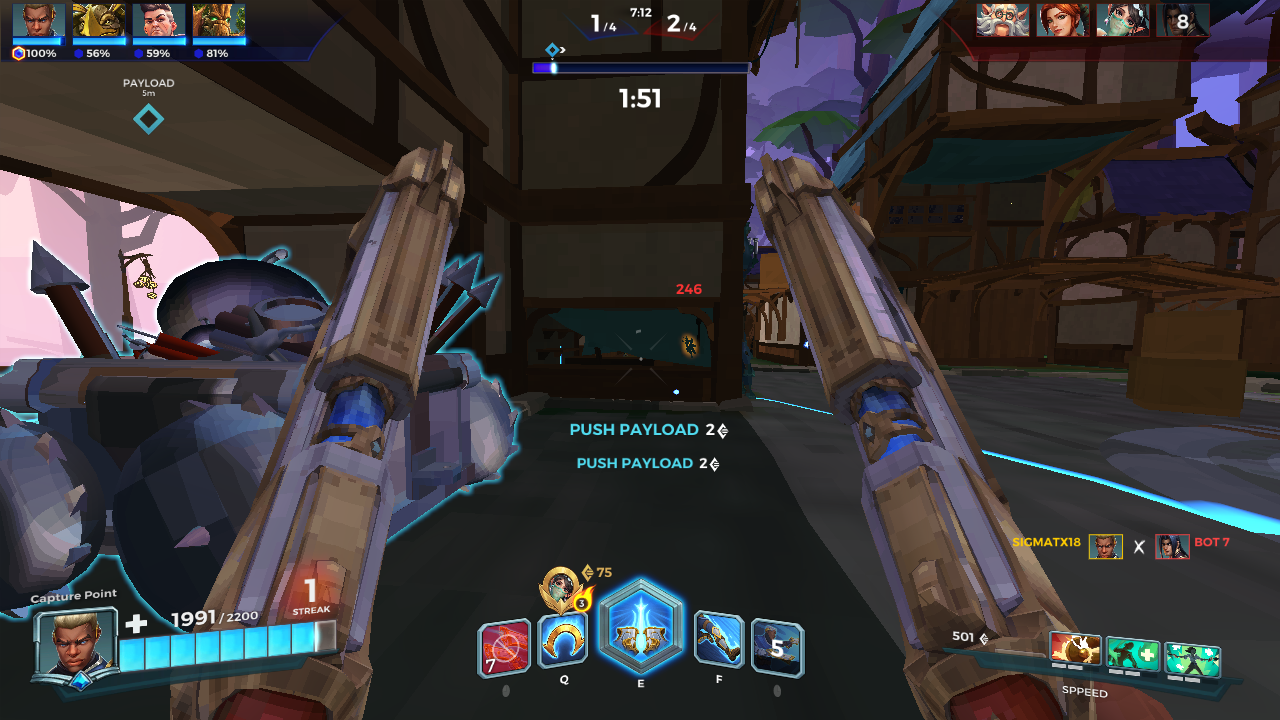model: (675, 330, 704, 362)
